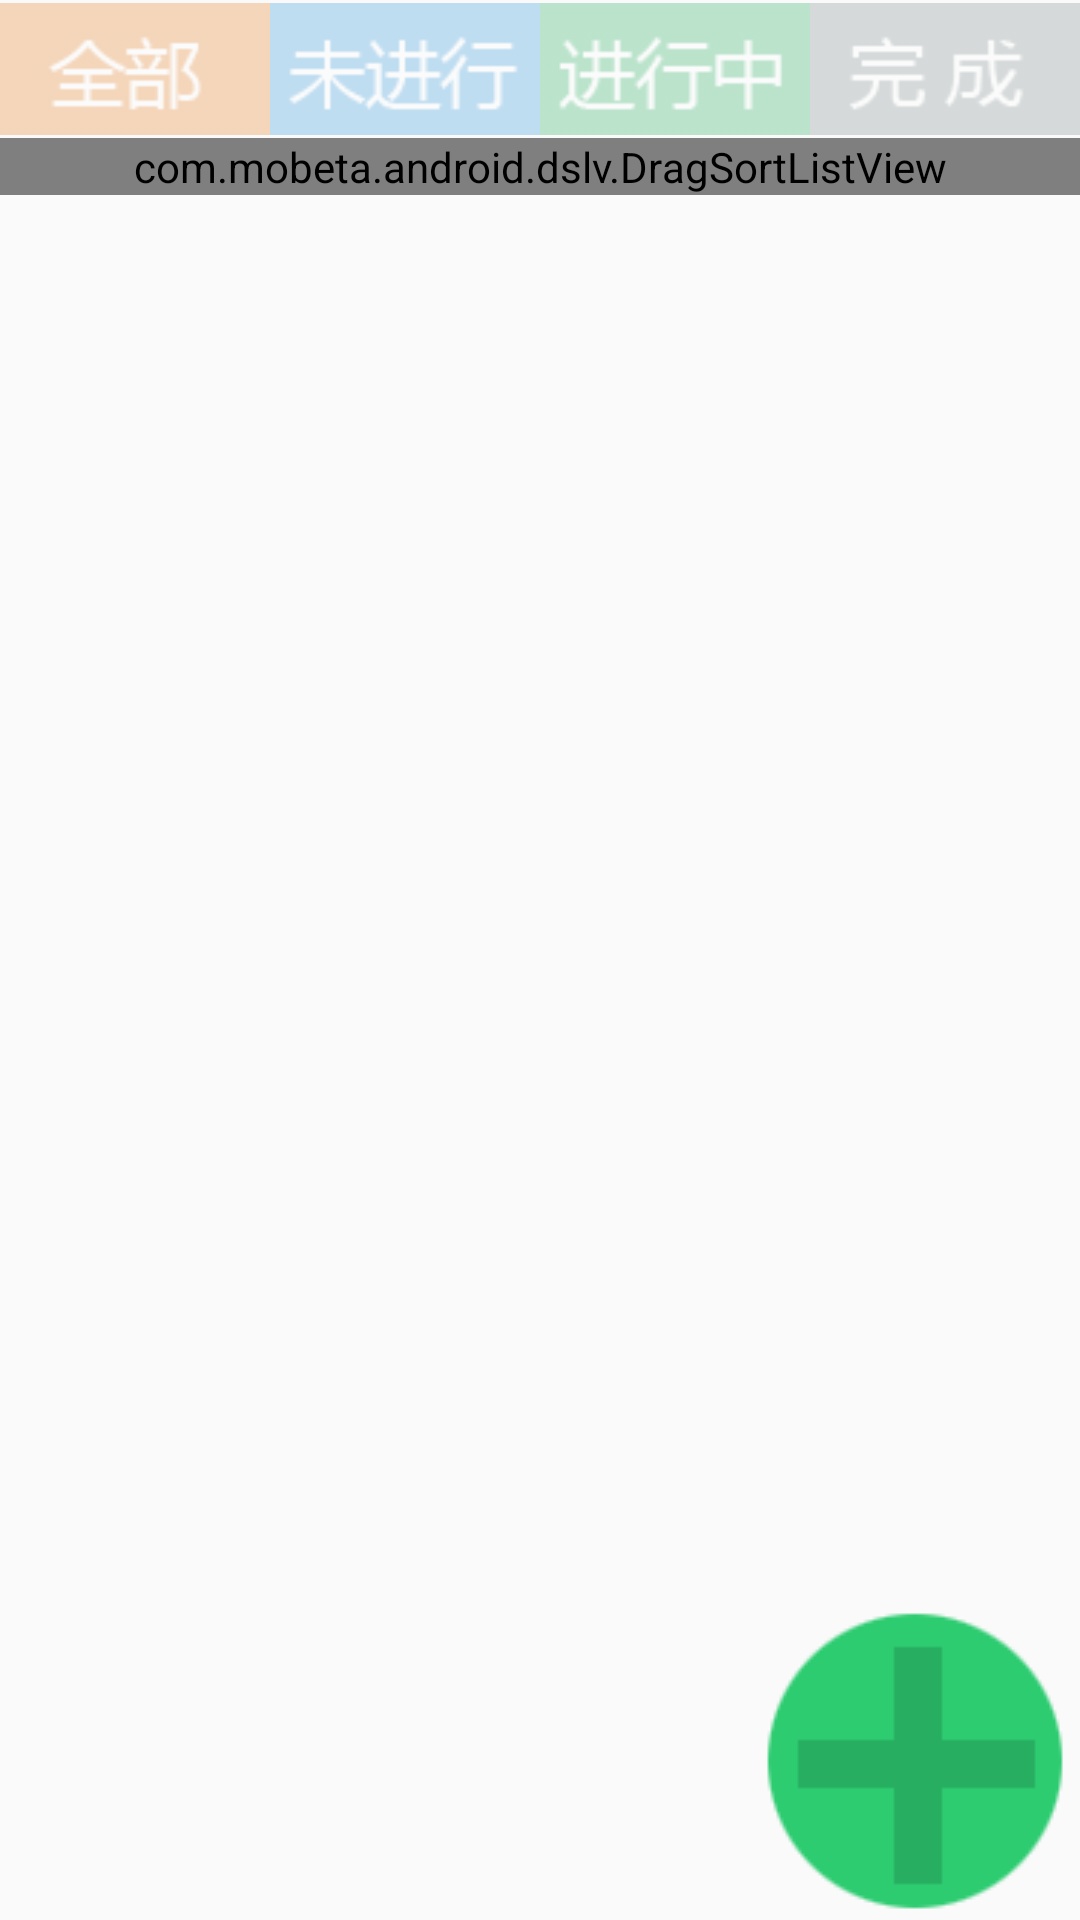

Icons on this 1080x1920 Android screen, each with the point to tap as (x=x, y=y):
create: (x=915, y=1761)
